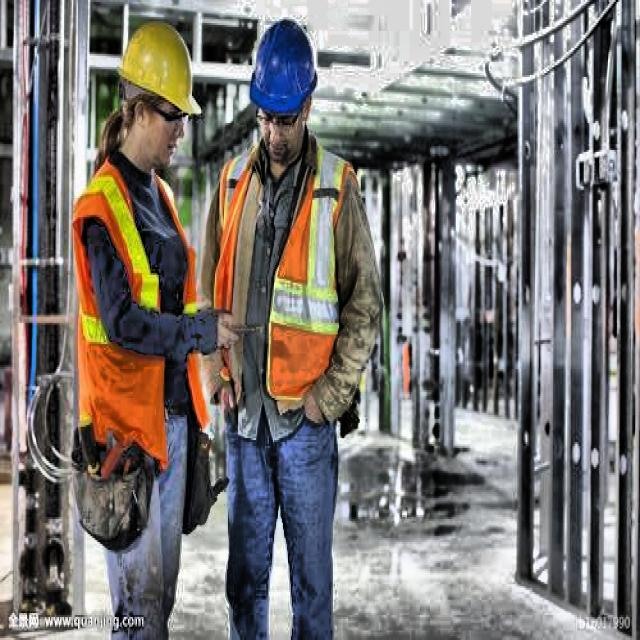helmet: (108, 8, 204, 180), (242, 6, 328, 173)
